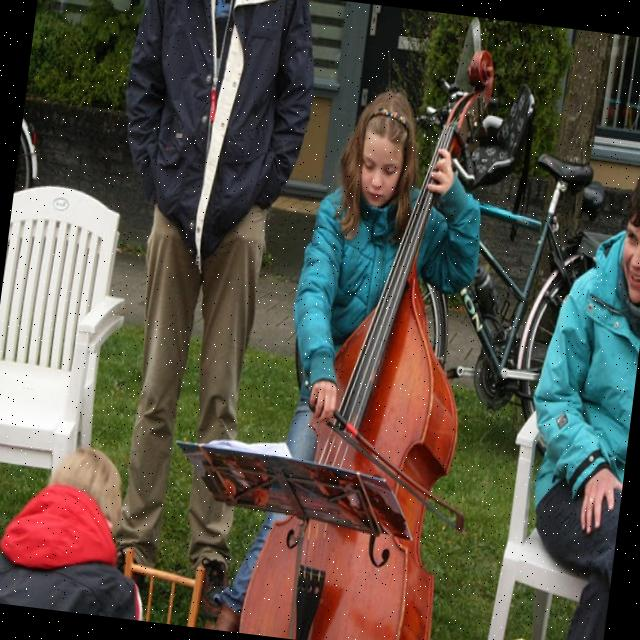cello: (237, 27, 505, 640)
